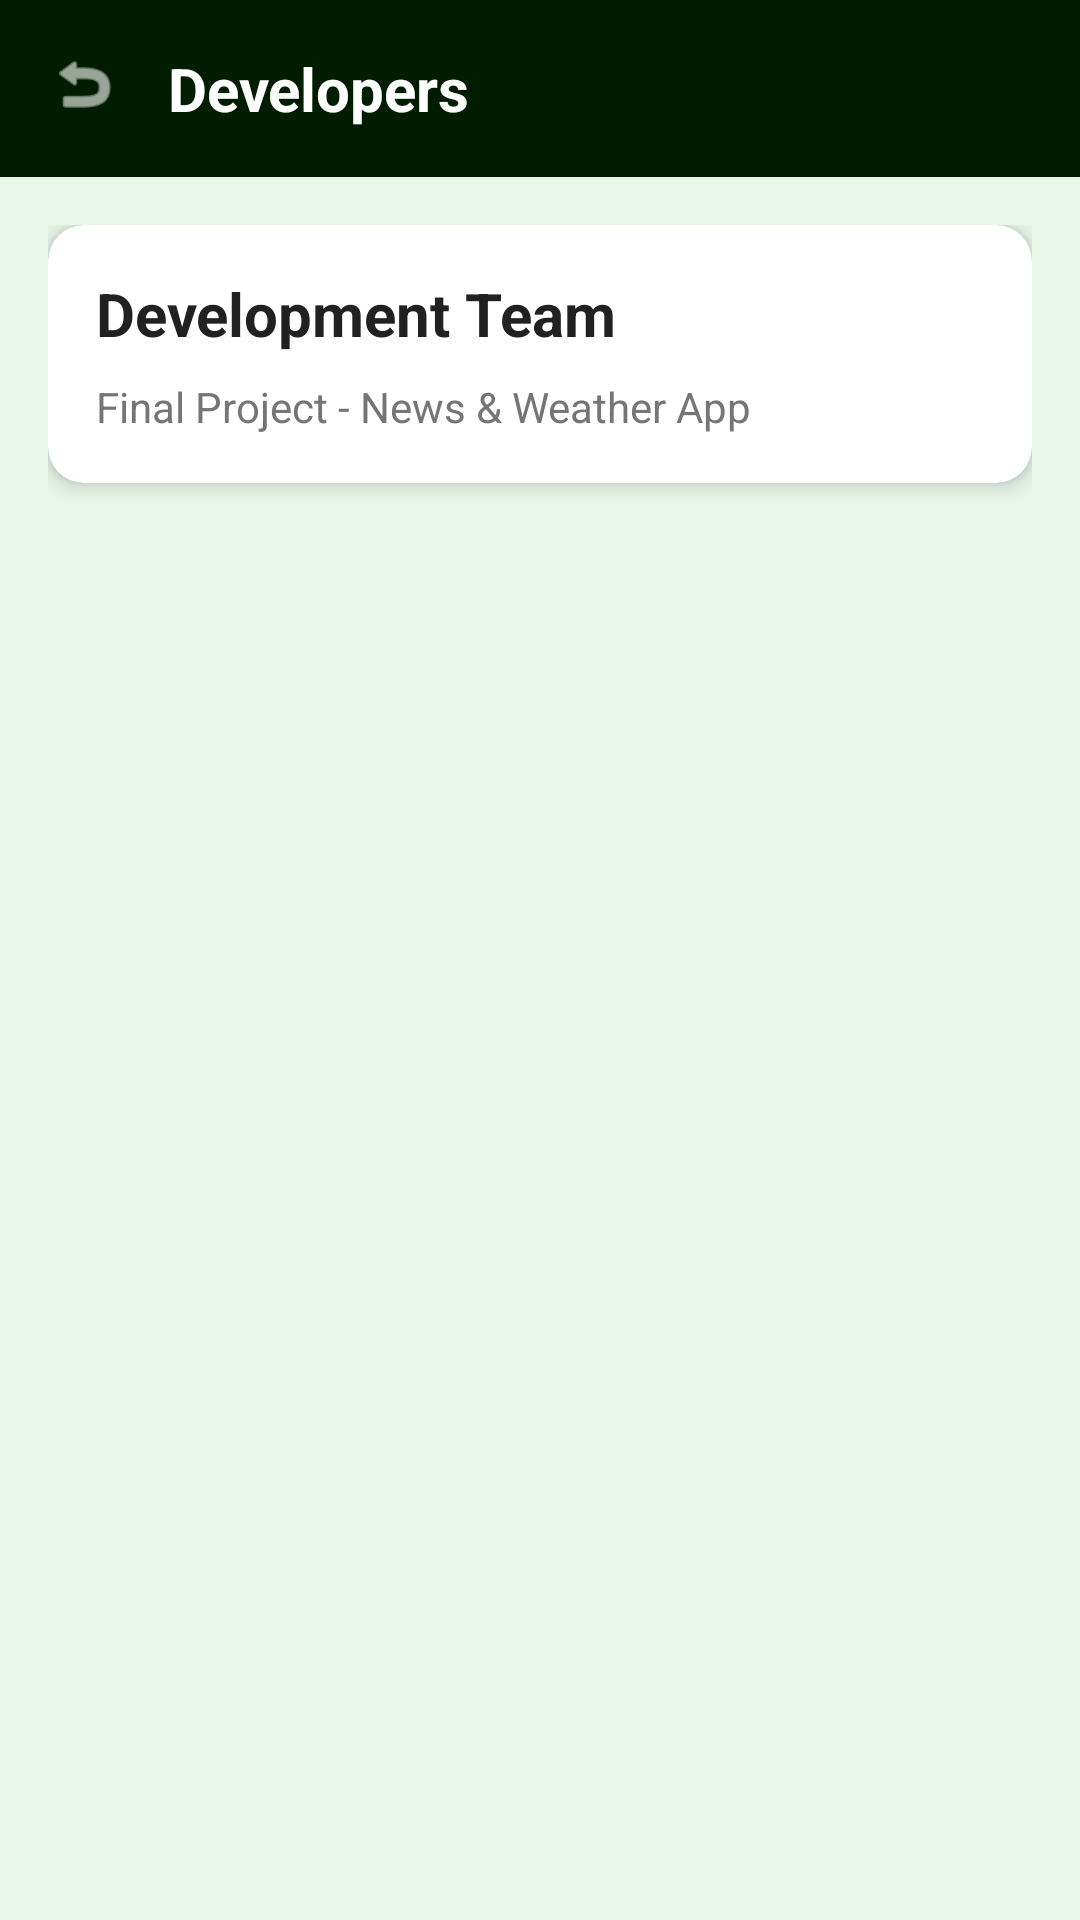

Icons on this 1080px x 1920px Android screen, each with its box as bbox=(x1, y1, x2, y2):
Back: bbox=(59, 61, 111, 108)
